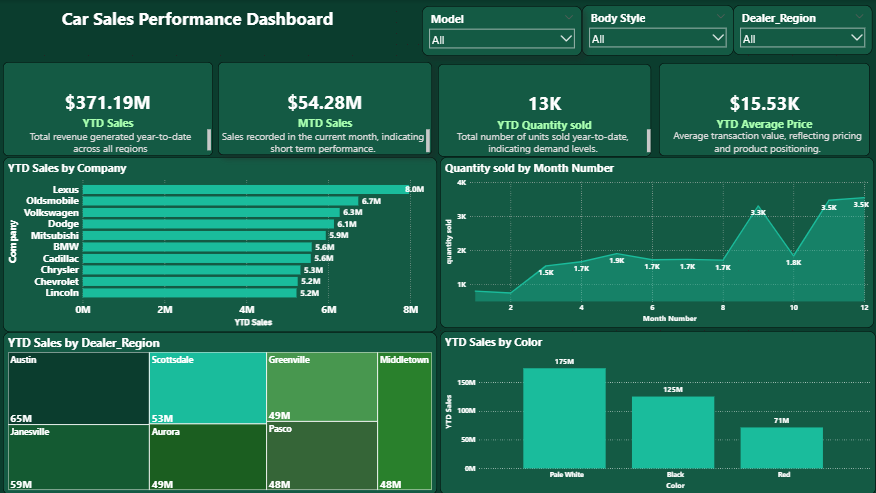

The dashboard page shown, as its layout file describes it:
{"tool":"powerbi","page":{"name":"Page 1","canvas":[1920,1080],"ordinal":0},"visuals":[{"type":"clusteredColumnChart","fields":{"Category":["car_data.Color"],"Y":["car_data.YTD Sales"]},"box":[960,722.2,951.3,357.8],"z":0},{"type":"slicer","fields":{"Values":["car_data.Body Style"]},"box":[1268.9,11.1,331.1,111.1],"z":1000},{"type":"slicer","box":[161.3,496,1.7,149.2],"z":2000},{"type":"slicer","fields":{"Values":["car_data.Dealer_Region"]},"box":[1600,11.1,304.4,108.9],"z":3000},{"type":"textbox","box":[0,8.9,862.2,102.2],"z":4000},{"type":"stackedAreaChart","title":"Quantity sold by Month Number","fields":{"Category":["Calendar.Month Number"],"Y":["car_data.quantity sold"]},"box":[960,342.5,946.9,373.1],"z":5000},{"type":"slicer","fields":{"Values":["car_data.Model"]},"box":[920,13.3,348.9,108.9],"z":6000},{"type":"clusteredBarChart","fields":{"Category":["car_data.Company"],"Y":["car_data.YTD Sales"]},"box":[6.5,342.5,946.9,381.8],"z":7000},{"type":"card","fields":{"Values":["car_data.YTD Sales"]},"box":[7,134.9,458.1,204.7],"z":8000},{"type":"card","fields":{"Values":["car_data.MTD Sales"]},"box":[475.6,135.3,466.9,202.9],"z":9000},{"type":"card","fields":{"Values":["car_data.YTD Quantity sold"]},"box":[955.8,139.5,465.1,202.3],"z":10000},{"type":"card","fields":{"Values":["car_data.YTD Average Price"]},"box":[1437.8,137.5,460.4,202.9],"z":11000},{"type":"treemap","fields":{"Group":["car_data.Dealer_Region"],"Values":["car_data.YTD Sales"]},"box":[6.5,724.4,946.9,355.6],"z":12000},{"type":"textbox","box":[1444.4,189.8,460.4,150.5],"z":13000},{"type":"textbox","box":[475.6,277.1,466.9,63.3],"z":14000},{"type":"textbox","box":[26.2,277.1,438.5,61.1],"z":15000},{"type":"textbox","box":[953.5,277.1,471.3,63.3],"z":16000}]}

Visuals, with their boxes in screenshot pixels (x1, y1, x2, y2), scaled from the page's 1920x1080 canvas onto the 876x493 screenshot:
clusteredColumnChart - car_data.Color x car_data.YTD Sales: bbox(438, 330, 872, 492)
slicer - car_data.Body Style: bbox(579, 5, 730, 56)
slicer - car_data.Dealer_Region: bbox(730, 5, 869, 55)
textbox: bbox(0, 4, 393, 51)
"Quantity sold by Month Number" stackedAreaChart: bbox(438, 156, 870, 327)
slicer - car_data.Model: bbox(420, 6, 579, 56)
clusteredBarChart - car_data.Company x car_data.YTD Sales: bbox(3, 156, 435, 331)
card - car_data.YTD Sales: bbox(3, 62, 212, 155)
card - car_data.MTD Sales: bbox(217, 62, 430, 154)
card - car_data.YTD Quantity sold: bbox(436, 64, 648, 156)
card - car_data.YTD Average Price: bbox(656, 63, 866, 155)
treemap - car_data.Dealer_Region x car_data.YTD Sales: bbox(3, 331, 435, 492)
textbox: bbox(659, 87, 869, 155)
textbox: bbox(217, 126, 430, 155)
textbox: bbox(12, 126, 212, 154)
textbox: bbox(435, 126, 650, 155)
